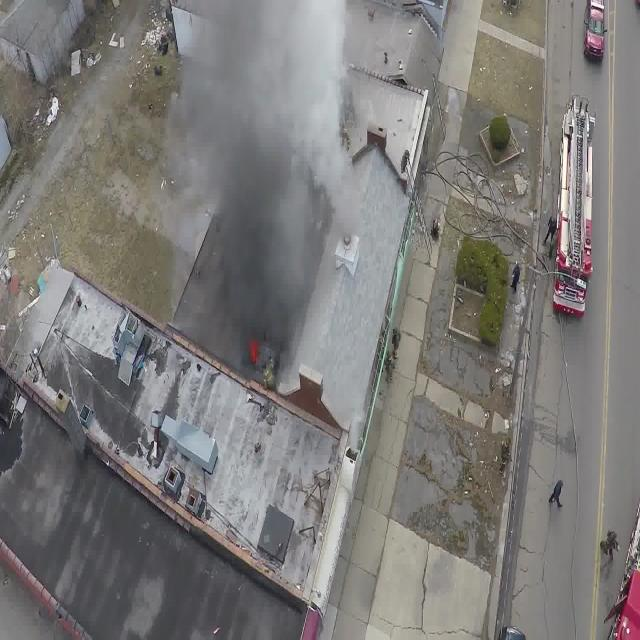smoke: (180, 0, 344, 366)
